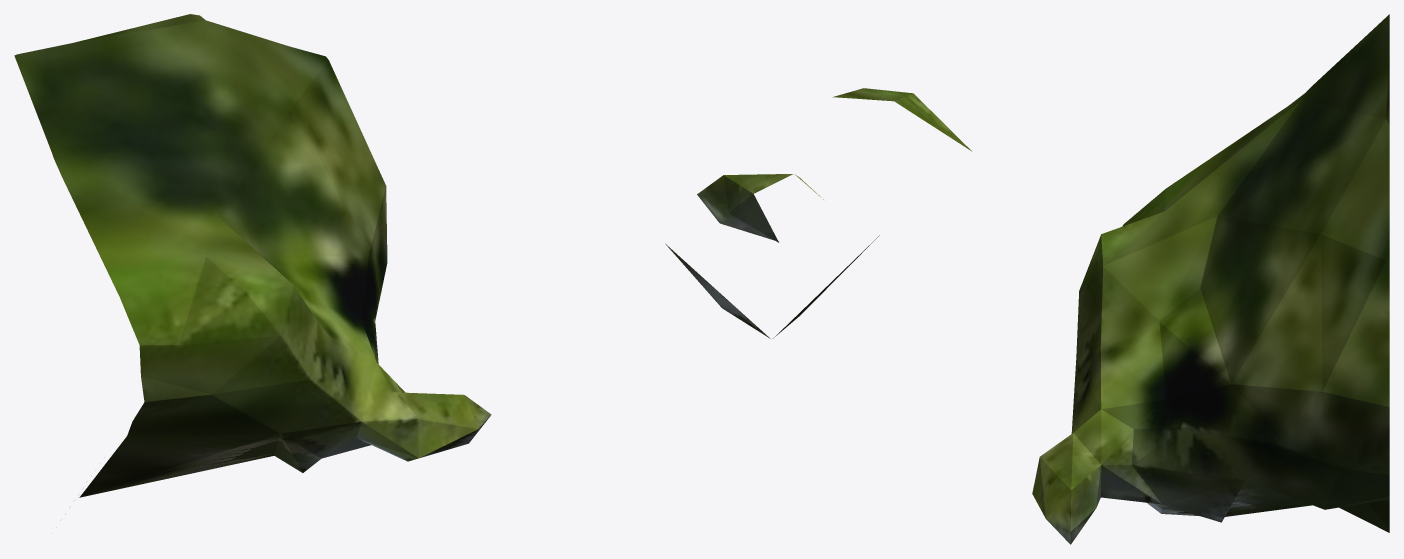
The picture shows the model from 3 angles, left to right: view 1: azimuth 30°, elevation 25°; view 2: azimuth 150°, elevation 25°; view 3: azimuth 270°, elevation 25°; orthographic projection. The views are drawn at different scales.
Size of the model in its own units: 0.3087 by 0.4092 by 0.2551.
1 material, 1 textured.
